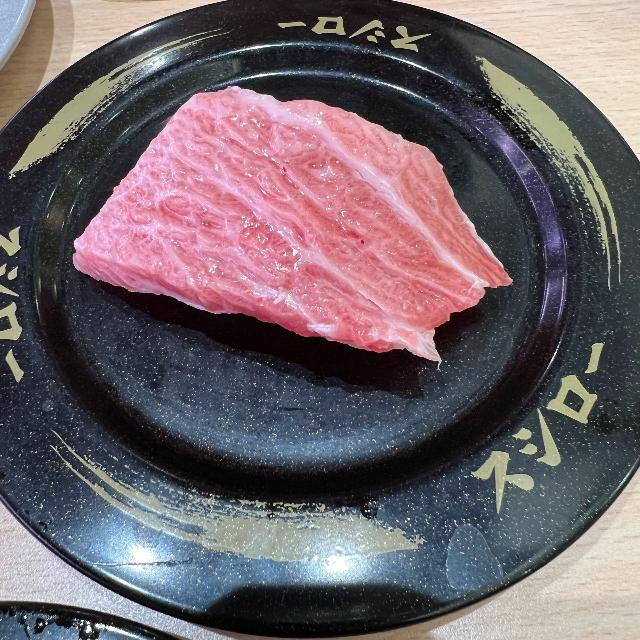janback: (9, 58, 616, 588), (0, 584, 241, 640)
janwhite: (4, 0, 37, 76)
